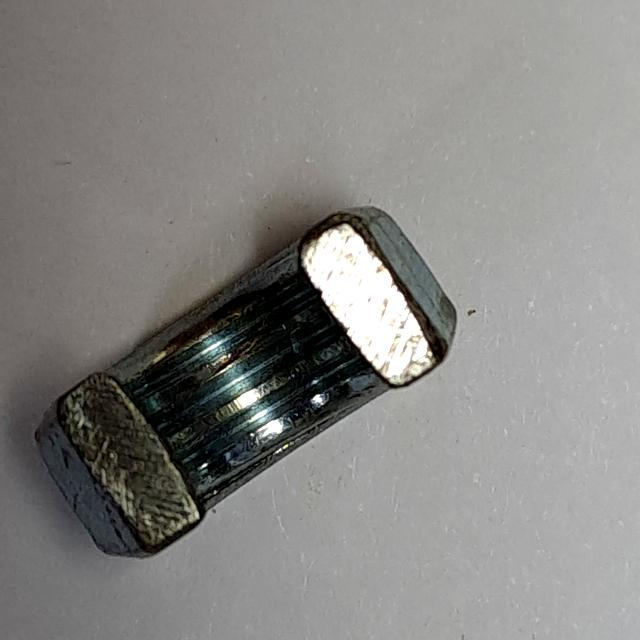Side-Fracture: (23, 196, 471, 570)
